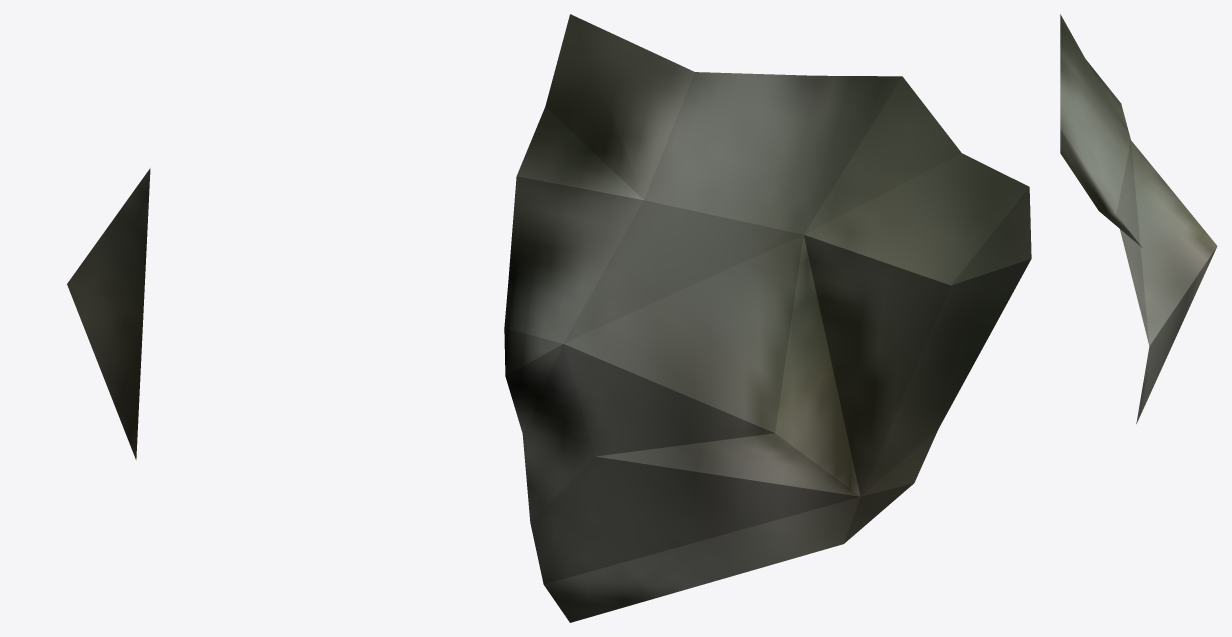
3 renders of one model, left to right at view 1: azimuth 30°, elevation 25°; view 2: azimuth 150°, elevation 25°; view 3: azimuth 270°, elevation 25°, orthographic. The views are drawn at different scales.
Size of the model in its own units: 0.1736 by 0.2256 by 0.0664.
Materials: 1 (1 with a texture image).
